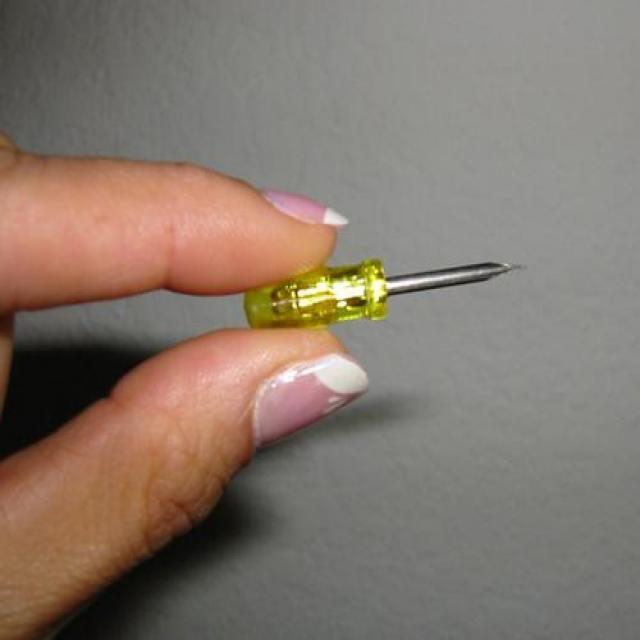screwdriver: (237, 242, 534, 348)
